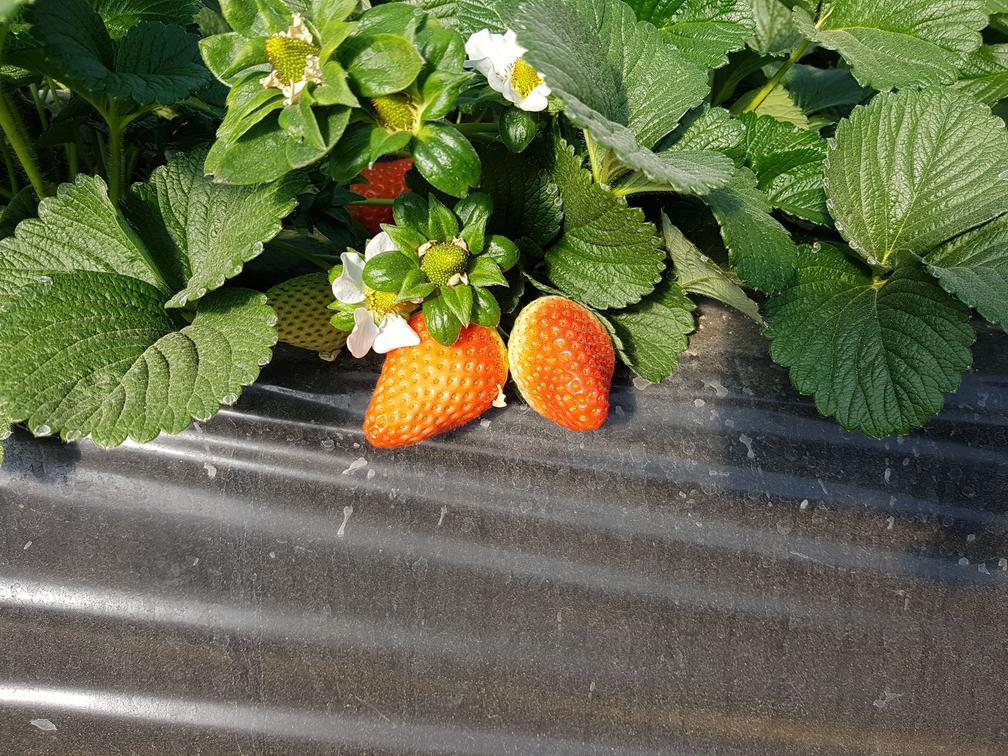Ripe: (353, 317, 509, 449), (507, 301, 628, 437)
Unripe: (262, 264, 351, 359), (264, 31, 324, 86), (420, 239, 478, 289)
